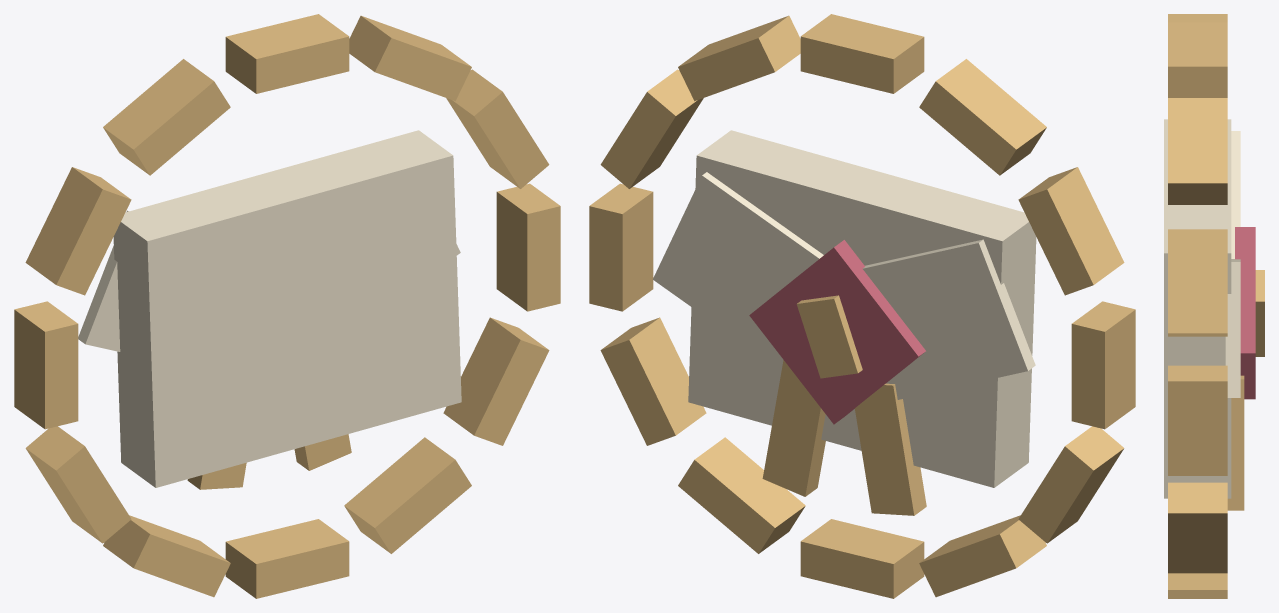
Rendered from delivery_marker.glb.
The picture shows the model from 3 angles, left to right: view 1: azimuth 30°, elevation 25°; view 2: azimuth 150°, elevation 25°; view 3: azimuth 270°, elevation 25°; orthographic projection. The views are drawn at different scales.
Visible parts, largest first — view 1: Moonpost Delivery Crest; view 2: Moonpost Delivery Crest; view 3: Moonpost Delivery Crest.
Boxes of the visible parts, x1=… form: Moonpost Delivery Crest: x1=14, y1=14, x2=560, y2=598; Moonpost Delivery Crest: x1=589, y1=14, x2=1135, y2=598; Moonpost Delivery Crest: x1=1164, y1=14, x2=1264, y2=598.
Size of the model in its own units: 3.1 by 3.1 by 0.54.
